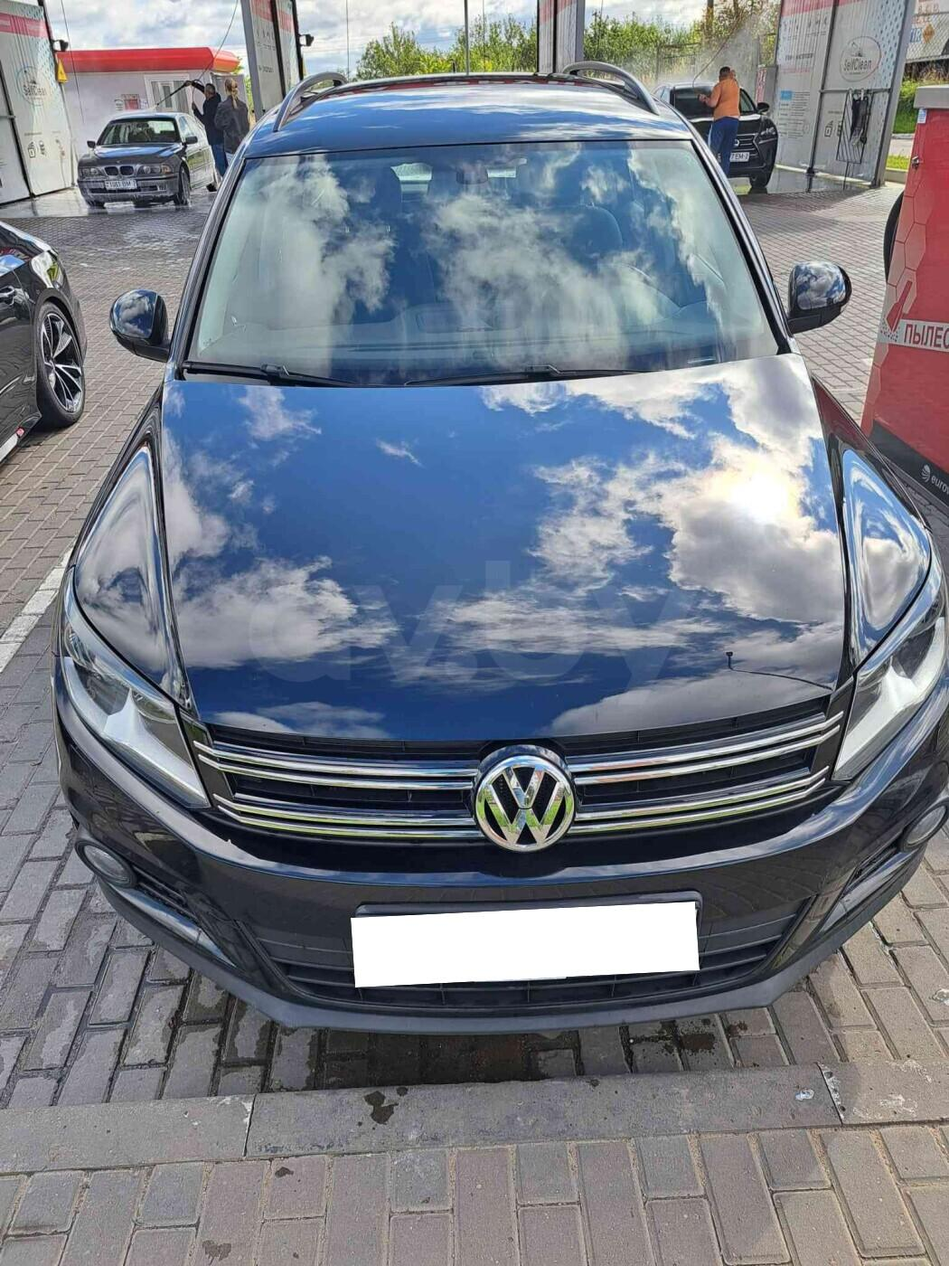Tiguan_2011-2018: (52, 71, 949, 1040)
